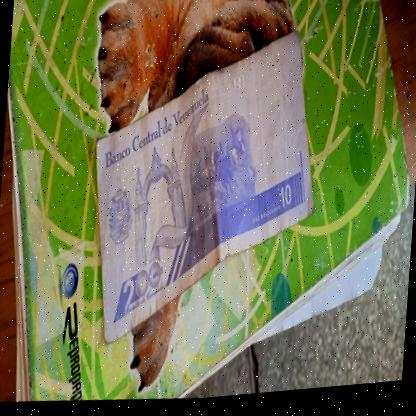vef_back: (83, 20, 326, 359)
